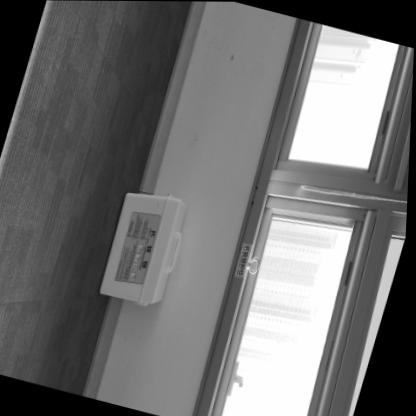DDL: (97, 185, 194, 307)
